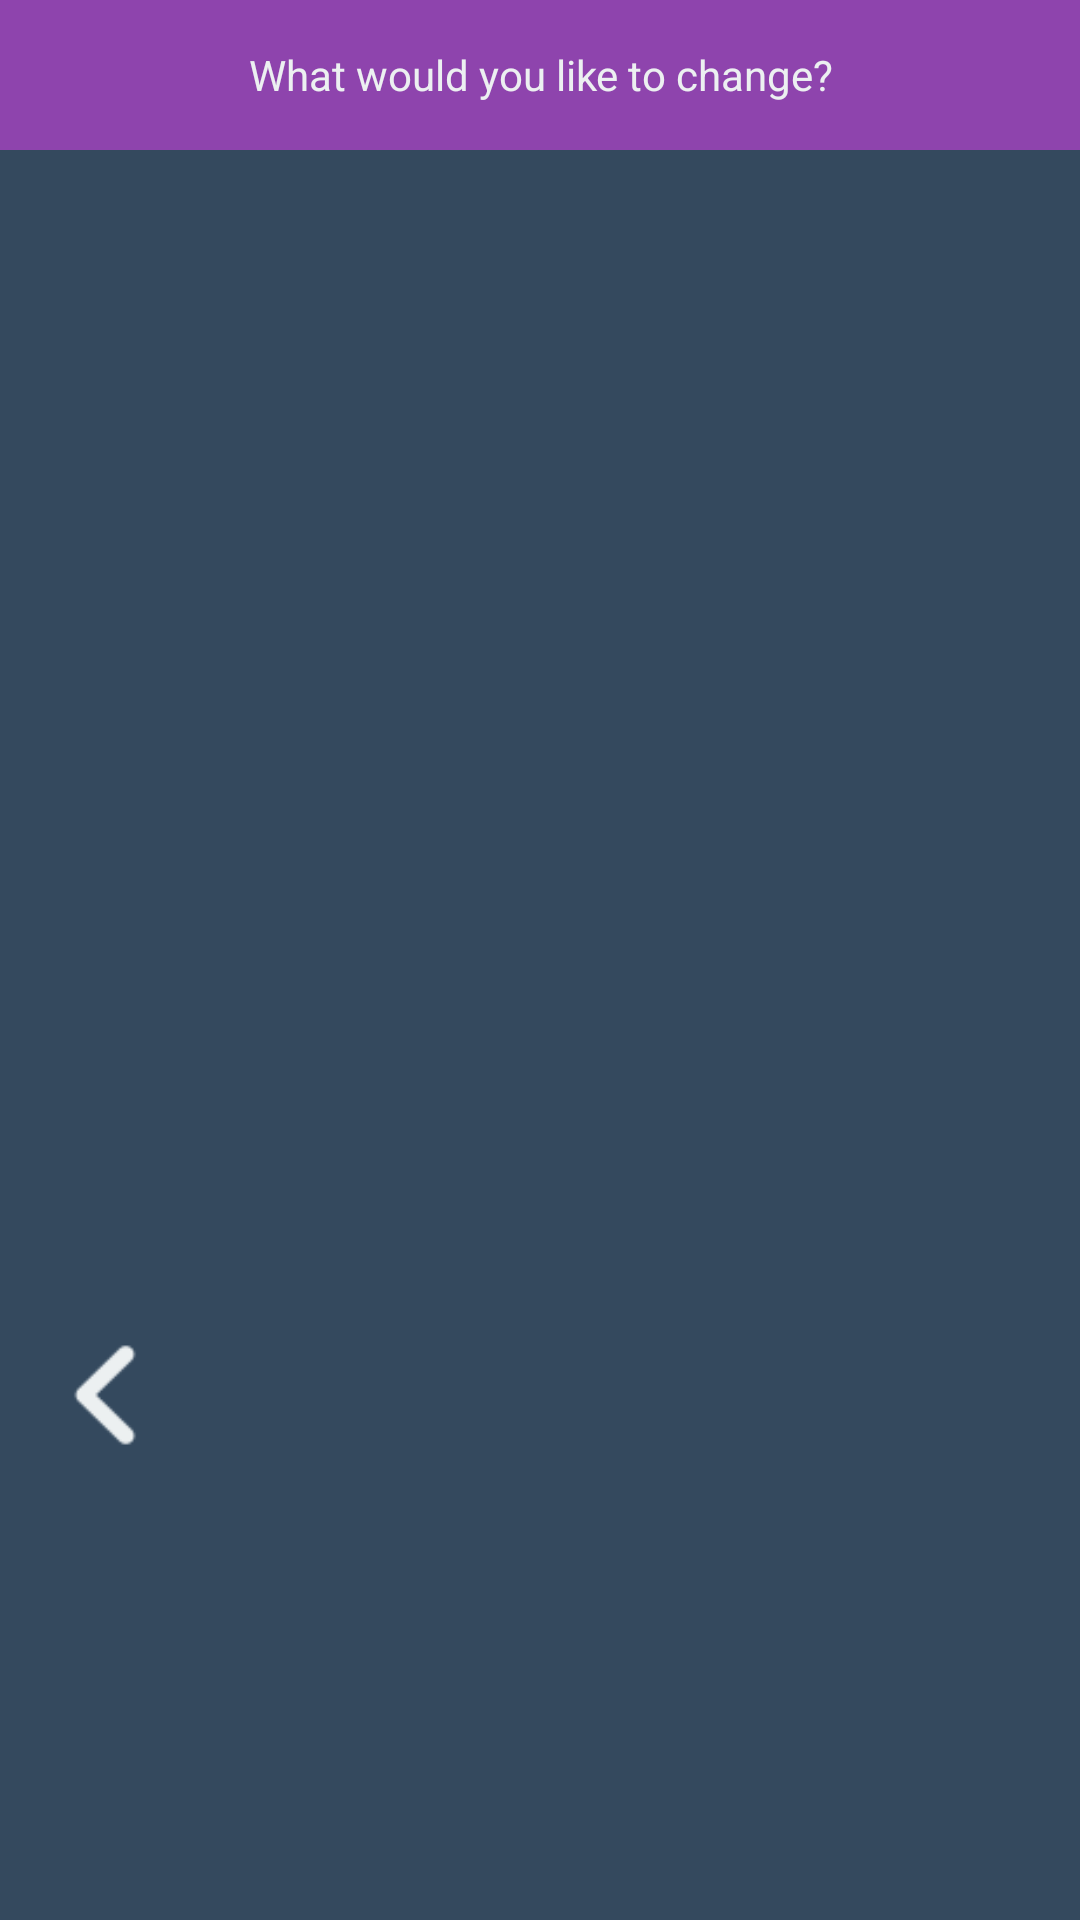

Screen size 1080px x 1920px. Icon name, then its center in pixels as point (x, y):
back: point (105, 1395)
